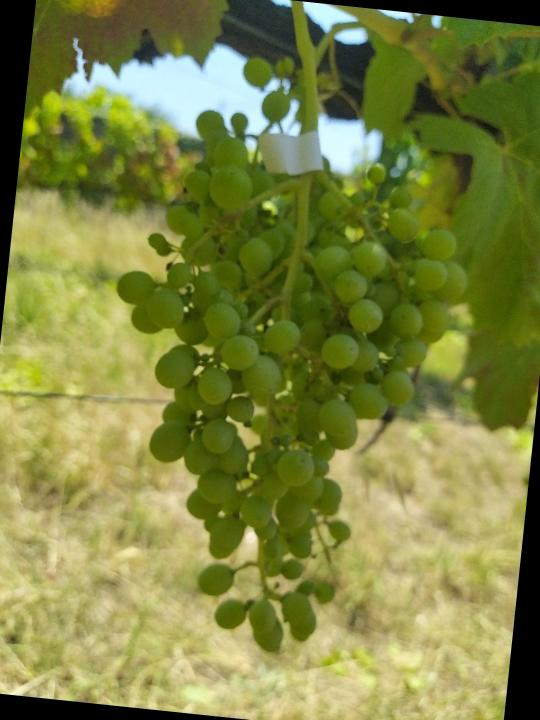grape: (79, 100, 488, 674)
